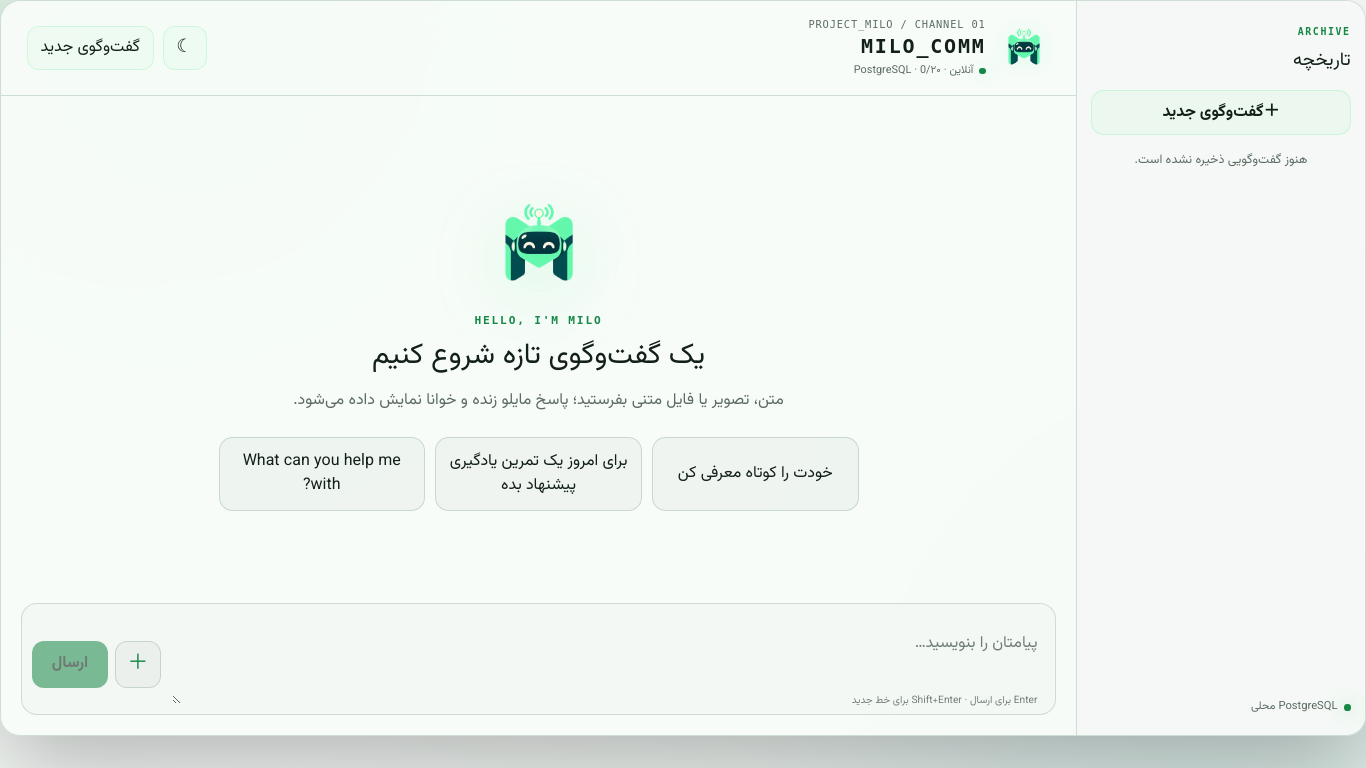
Test: ChatShell › creates a conversation, streams a response and clears the current view
This screenshot has width=1366, height=768.
Type "سلام" into the text box named "پیام شما برای مایلو" at (608, 664), box [172, 625, 1045, 704]
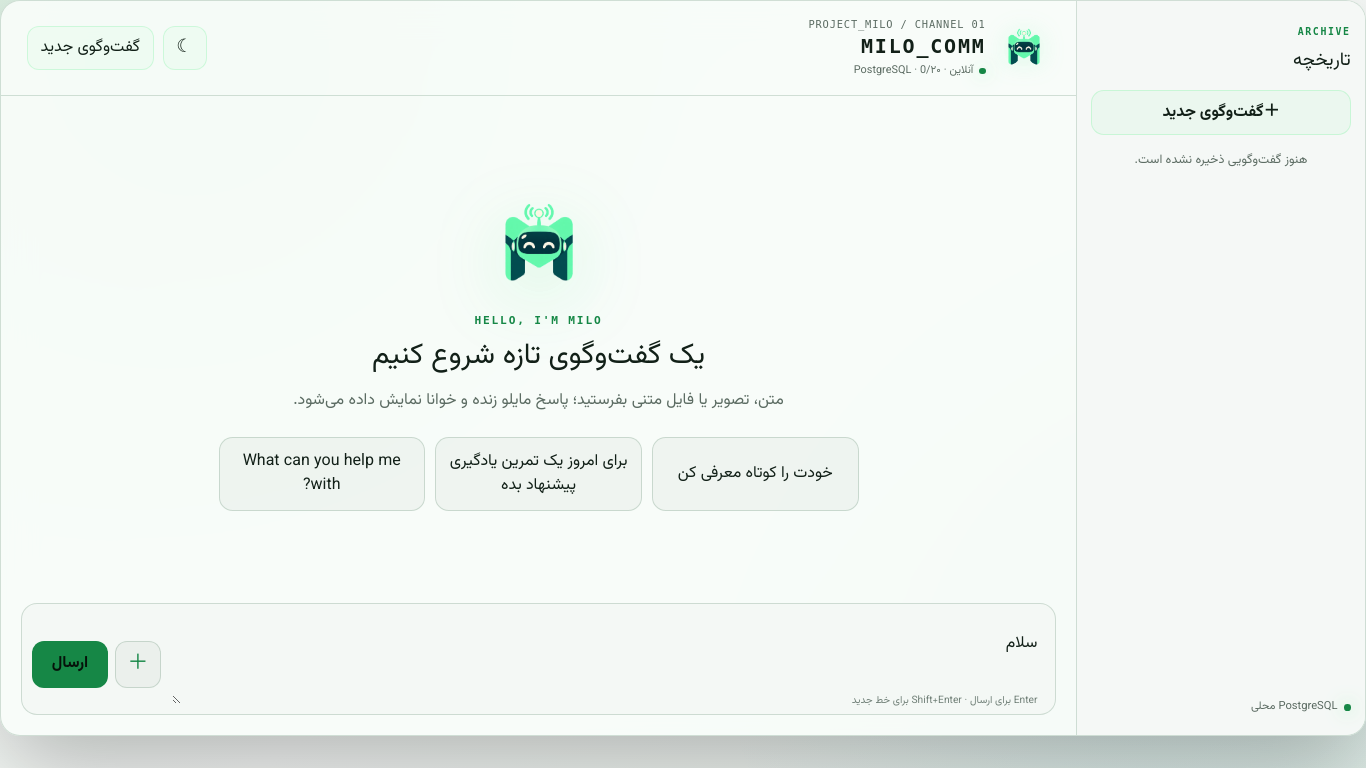
Click the button "ارسال" at (70, 664), box [32, 641, 108, 688]
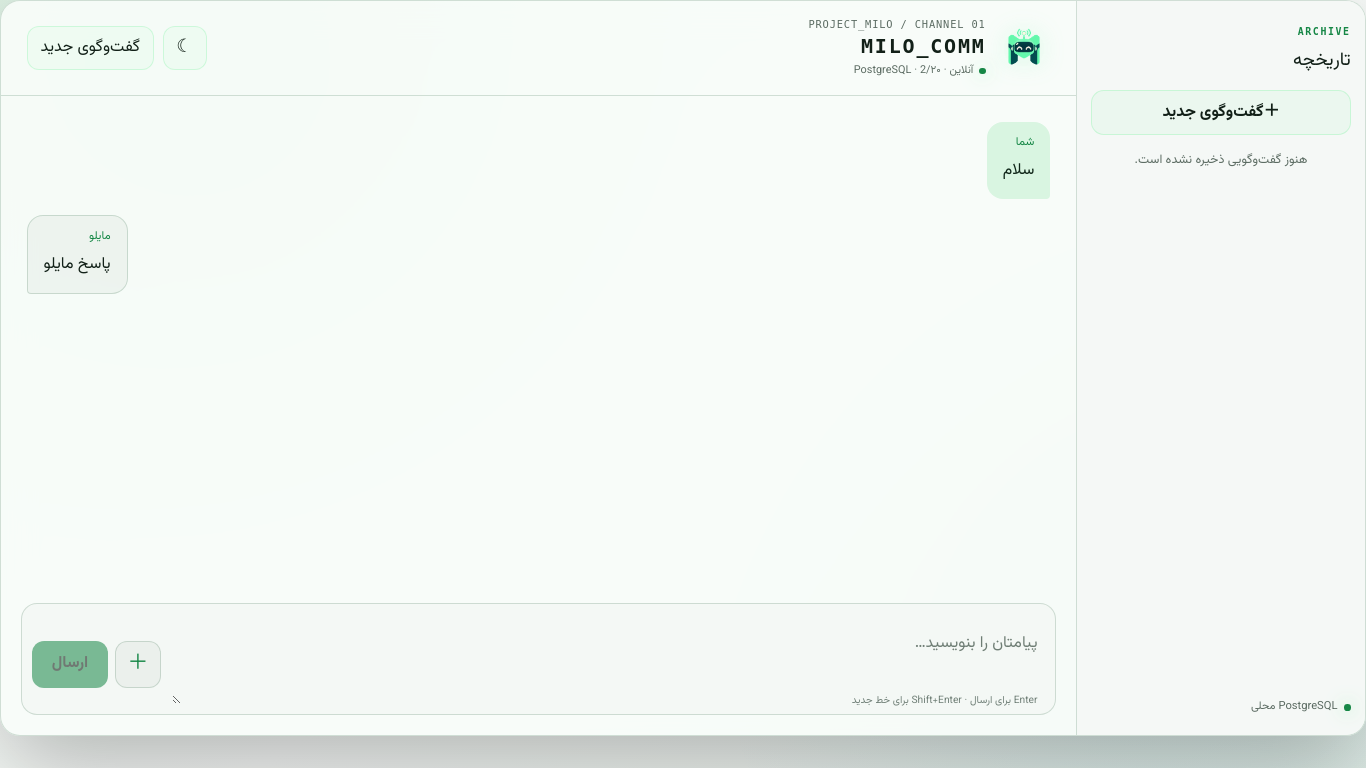
Check: the text "پاسخ مایلو" is shown, box [44, 250, 111, 280]
Click the button "＋گفت‌وگوی جدید" at (1221, 113), box [1091, 90, 1351, 135]
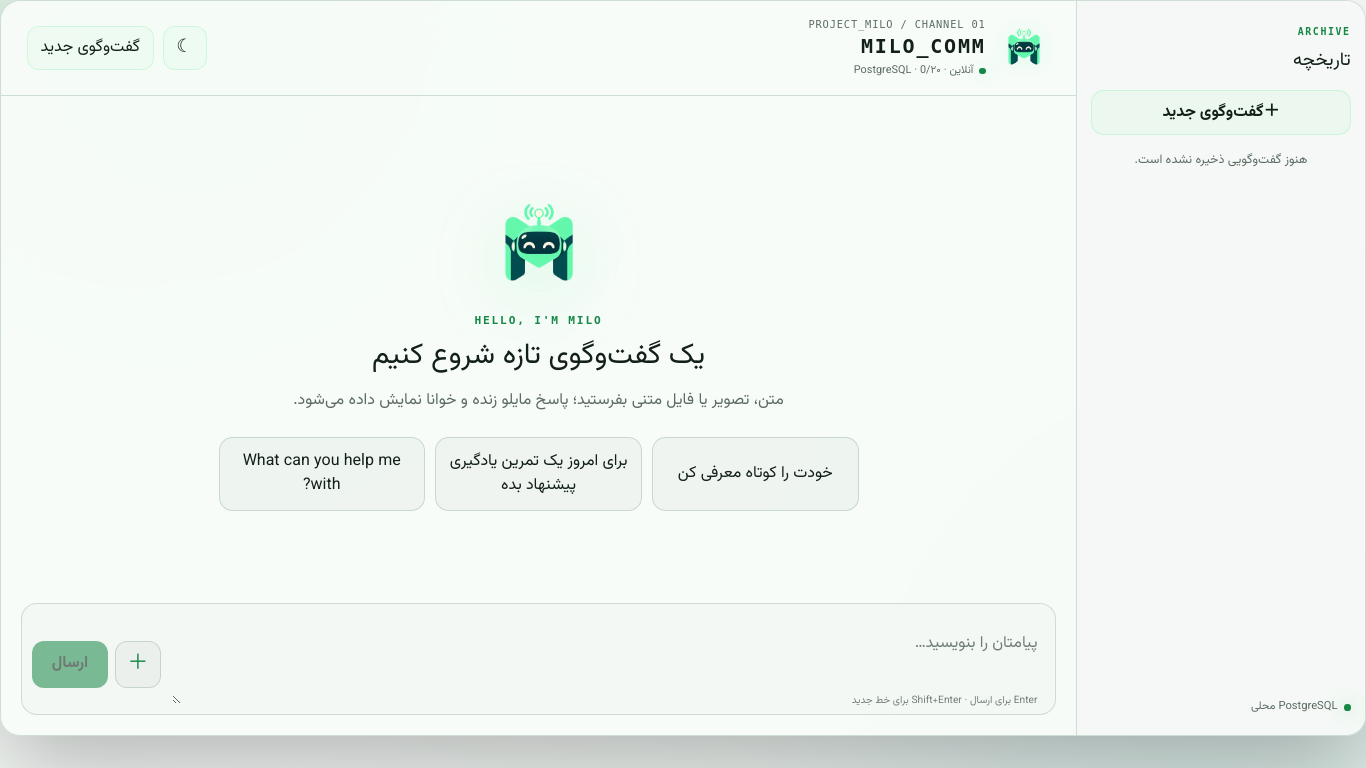
Check: the heading "یک گفت‌وگوی تازه شروع کنیم" is shown, box [372, 333, 705, 378]
